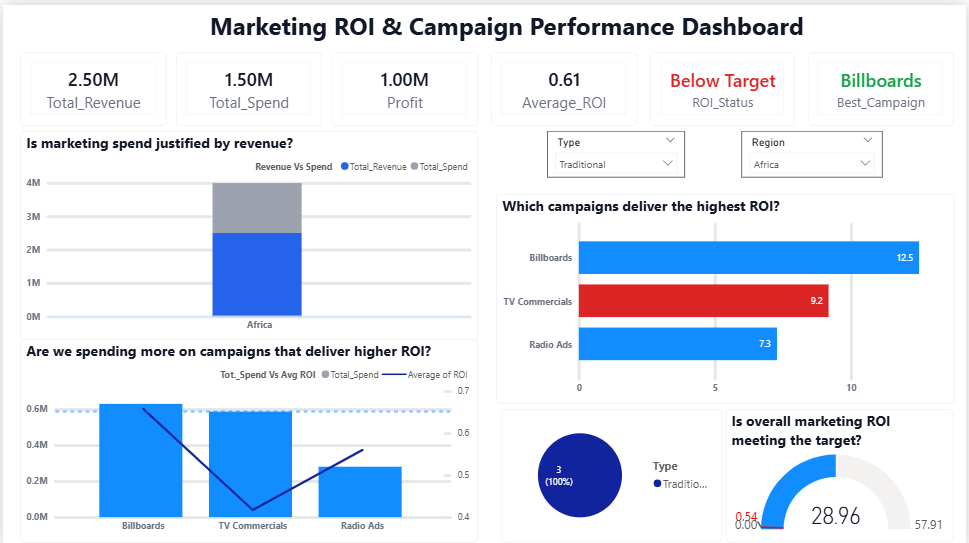

Layout of this report page (visuals, bound fields, positions):
{"tool":"powerbi","page":{"name":"Marketing Campaign","canvas":[1280,720],"ordinal":0},"visuals":[{"type":"columnChart","title":"Is marketing spend justified by revenue?","fields":{"Category":["marketing campaign performance.Region"],"Y":["marketing campaign performance.Total_Revenue","marketing campaign performance.Total_Spend"]},"box":[24,168,607.5,280],"z":0},{"type":"lineClusteredColumnComboChart","title":"Are we spending more on campaigns that deliver higher ROI?","fields":{"Category":["marketing campaign performance.Campaign_Name"],"Y":["marketing campaign performance.Total_Spend"],"Y2":["Avg(marketing campaign performance.ROI)"]},"box":[24,445,607.5,270],"z":1000},{"type":"clusteredBarChart","title":"Which campaigns deliver the highest ROI?","fields":{"Category":["marketing campaign performance.Campaign_Name"],"Y":["Sum(marketing campaign performance.ROI)"]},"box":[655.3,251.1,608.5,278.7],"z":2000},{"type":"pieChart","fields":{"Category":["marketing campaign details.Type"],"Y":["CountNonNull(marketing campaign details.Campaign_Name)"]},"box":[662.8,537.2,293,176.7],"z":3000},{"type":"gauge","title":"Is overall marketing ROI meeting the target?","fields":{"TargetValue":["Avg(marketing campaign performance.ROI)"],"Y":["Sum(marketing campaign performance.ROI)"]},"box":[960.5,537.2,302.3,176.7],"z":4000},{"type":"cardVisual","fields":{"Data":["marketing campaign performance.Total_Revenue"]},"box":[23.4,61.7,193.6,97.9],"z":5000},{"type":"cardVisual","fields":{"Data":["marketing campaign performance.Total_Spend"]},"box":[229.8,61.7,193.6,97.9],"z":6000},{"type":"cardVisual","fields":{"Data":["marketing campaign performance.Average_ROI"]},"box":[648.9,61.7,193.6,97.9],"z":7000},{"type":"cardVisual","fields":{"Data":["marketing campaign performance.Best_Campaign"]},"box":[1070.2,61.7,193.6,97.9],"z":8000},{"type":"slicer","fields":{"Values":["marketing campaign performance.Region"]},"box":[980.9,168.1,187.2,61.7],"z":9000},{"type":"slicer","fields":{"Values":["marketing campaign details.Type"]},"box":[723.4,168.1,183,61.7],"z":10000},{"type":"cardVisual","fields":{"Data":["marketing campaign performance.Profit"]},"box":[438.3,61.7,193.6,97.9],"z":11000},{"type":"cardVisual","fields":{"Data":["marketing campaign performance.ROI_Status"]},"box":[859.6,61.7,191.5,97.9],"z":12000},{"type":"textbox","box":[189.4,0,880.9,59.6],"z":13000}]}

Visuals, with their boxes in screenshot pixels (x1, y1, x2, y2), scaled from the page's 1280x720 canvas onto the 969x543 screenshot:
"Is marketing spend justified by revenue?" columnChart: left=18, top=127, right=478, bottom=338
"Are we spending more on campaigns that deliver higher ROI?" lineClusteredColumnComboChart: left=18, top=336, right=478, bottom=539
"Which campaigns deliver the highest ROI?" clusteredBarChart: left=496, top=189, right=957, bottom=400
pieChart - marketing campaign details.Type x CountNonNull(marketing campaign details.Campaign_Name): left=502, top=405, right=724, bottom=538
"Is overall marketing ROI meeting the target?" gauge: left=727, top=405, right=956, bottom=538
cardVisual - marketing campaign performance.Total_Revenue: left=18, top=47, right=164, bottom=120
cardVisual - marketing campaign performance.Total_Spend: left=174, top=47, right=321, bottom=120
cardVisual - marketing campaign performance.Average_ROI: left=491, top=47, right=638, bottom=120
cardVisual - marketing campaign performance.Best_Campaign: left=810, top=47, right=957, bottom=120
slicer - marketing campaign performance.Region: left=743, top=127, right=884, bottom=173
slicer - marketing campaign details.Type: left=548, top=127, right=686, bottom=173
cardVisual - marketing campaign performance.Profit: left=332, top=47, right=478, bottom=120
cardVisual - marketing campaign performance.ROI_Status: left=651, top=47, right=796, bottom=120
textbox: left=143, top=0, right=810, bottom=45
